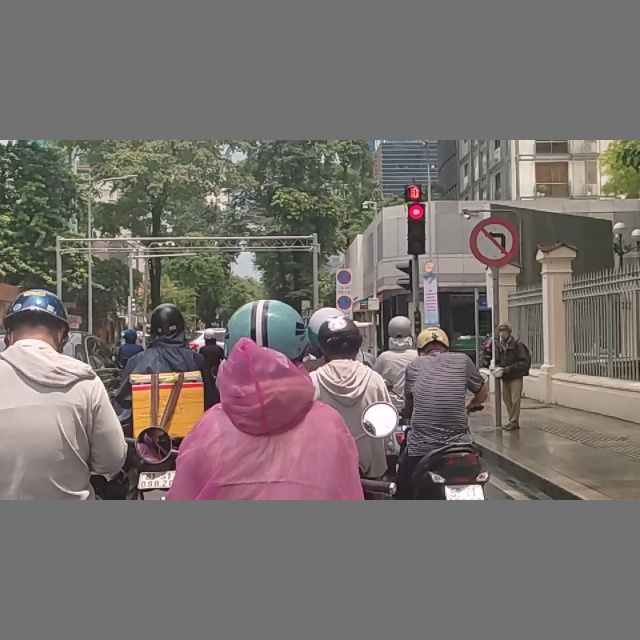P.123a: (470, 216, 519, 266)
P.130: (336, 270, 351, 286)
P.131a: (337, 294, 352, 310)
